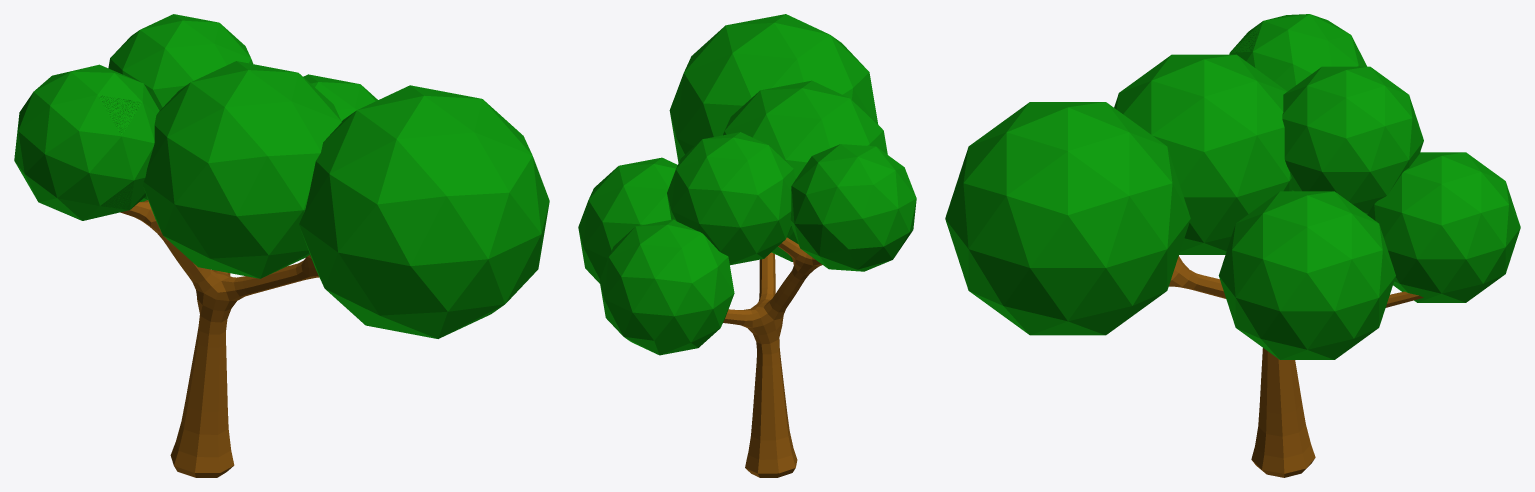
File: Tree2.0.fbx
3 views of the same model, side by side, from view 1: azimuth 30°, elevation 25°; view 2: azimuth 150°, elevation 25°; view 3: azimuth 270°, elevation 25° (orthographic). The views are drawn at different scales.
Visible parts, largest first — view 1: Icosphere.001, Icosphere, Icosphere.003, Plane, Icosphere.002, Icosphere.004; view 2: Icosphere.001, Icosphere.005, Icosphere.003, Icosphere.002, Plane, Icosphere, Icosphere.004; view 3: Icosphere.001, Icosphere.004, Icosphere, Icosphere.005, Icosphere.002, Plane, Icosphere.003.
Boxes of the visible parts, x1,y1,x2,y2 form: Icosphere.001: [299, 85, 549, 338]; Icosphere: [143, 61, 341, 278]; Icosphere.003: [14, 64, 159, 220]; Plane: [120, 200, 319, 477]; Icosphere.002: [108, 14, 253, 110]; Icosphere.004: [303, 74, 377, 121]; Icosphere.001: [669, 14, 878, 162]; Icosphere.005: [599, 219, 734, 355]; Icosphere.003: [790, 144, 916, 271]; Icosphere.002: [667, 132, 795, 265]; Plane: [723, 237, 822, 477]; Icosphere: [723, 80, 887, 261]; Icosphere.004: [578, 157, 677, 283]; Icosphere.001: [945, 102, 1190, 335]; Icosphere.004: [1218, 191, 1395, 359]; Icosphere: [1114, 54, 1291, 254]; Icosphere.005: [1367, 152, 1520, 302]; Icosphere.002: [1282, 66, 1423, 214]; Plane: [1169, 256, 1423, 477]; Icosphere.003: [1229, 14, 1366, 91].
Size of the model in its own units: 1428 by 1519 by 1925.
